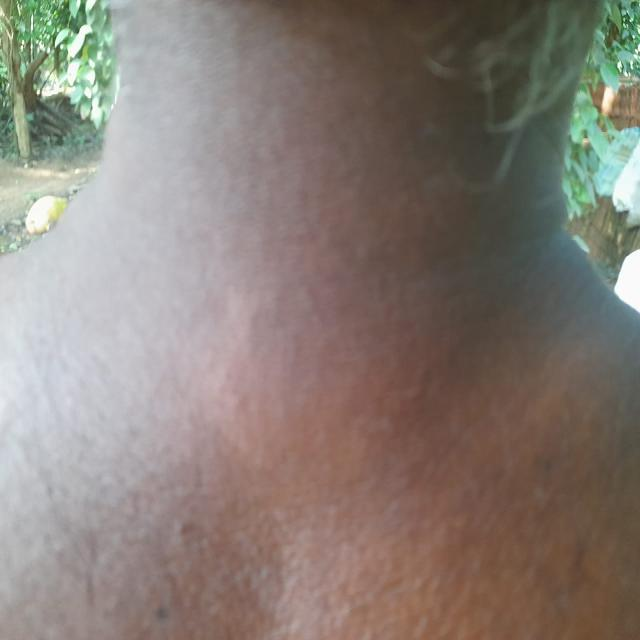Healthy: (25, 5, 640, 419)
